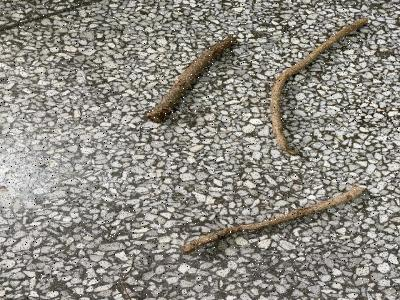Root: (271, 18, 367, 155), (181, 186, 364, 252), (148, 37, 236, 122)
